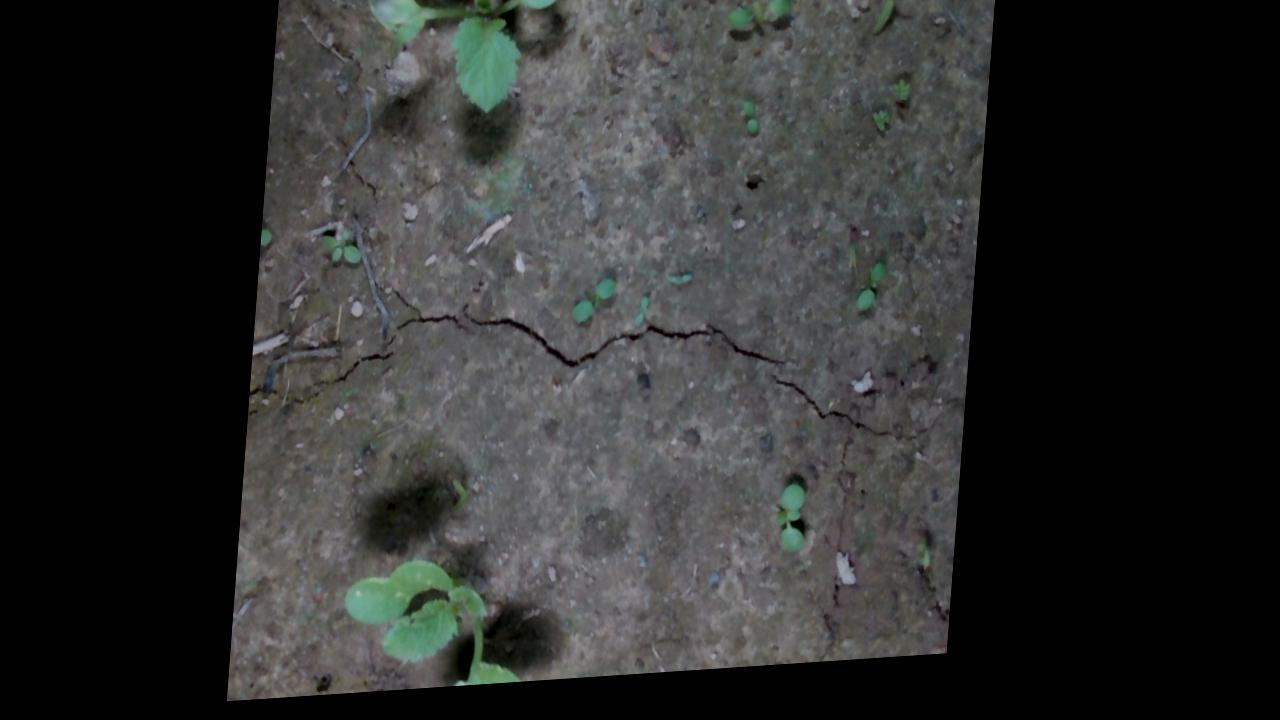weed: (777, 494, 819, 567), (574, 284, 622, 334), (870, 0, 911, 49), (857, 273, 892, 327), (316, 237, 367, 273), (740, 110, 763, 149), (636, 303, 658, 339), (667, 282, 697, 299)
